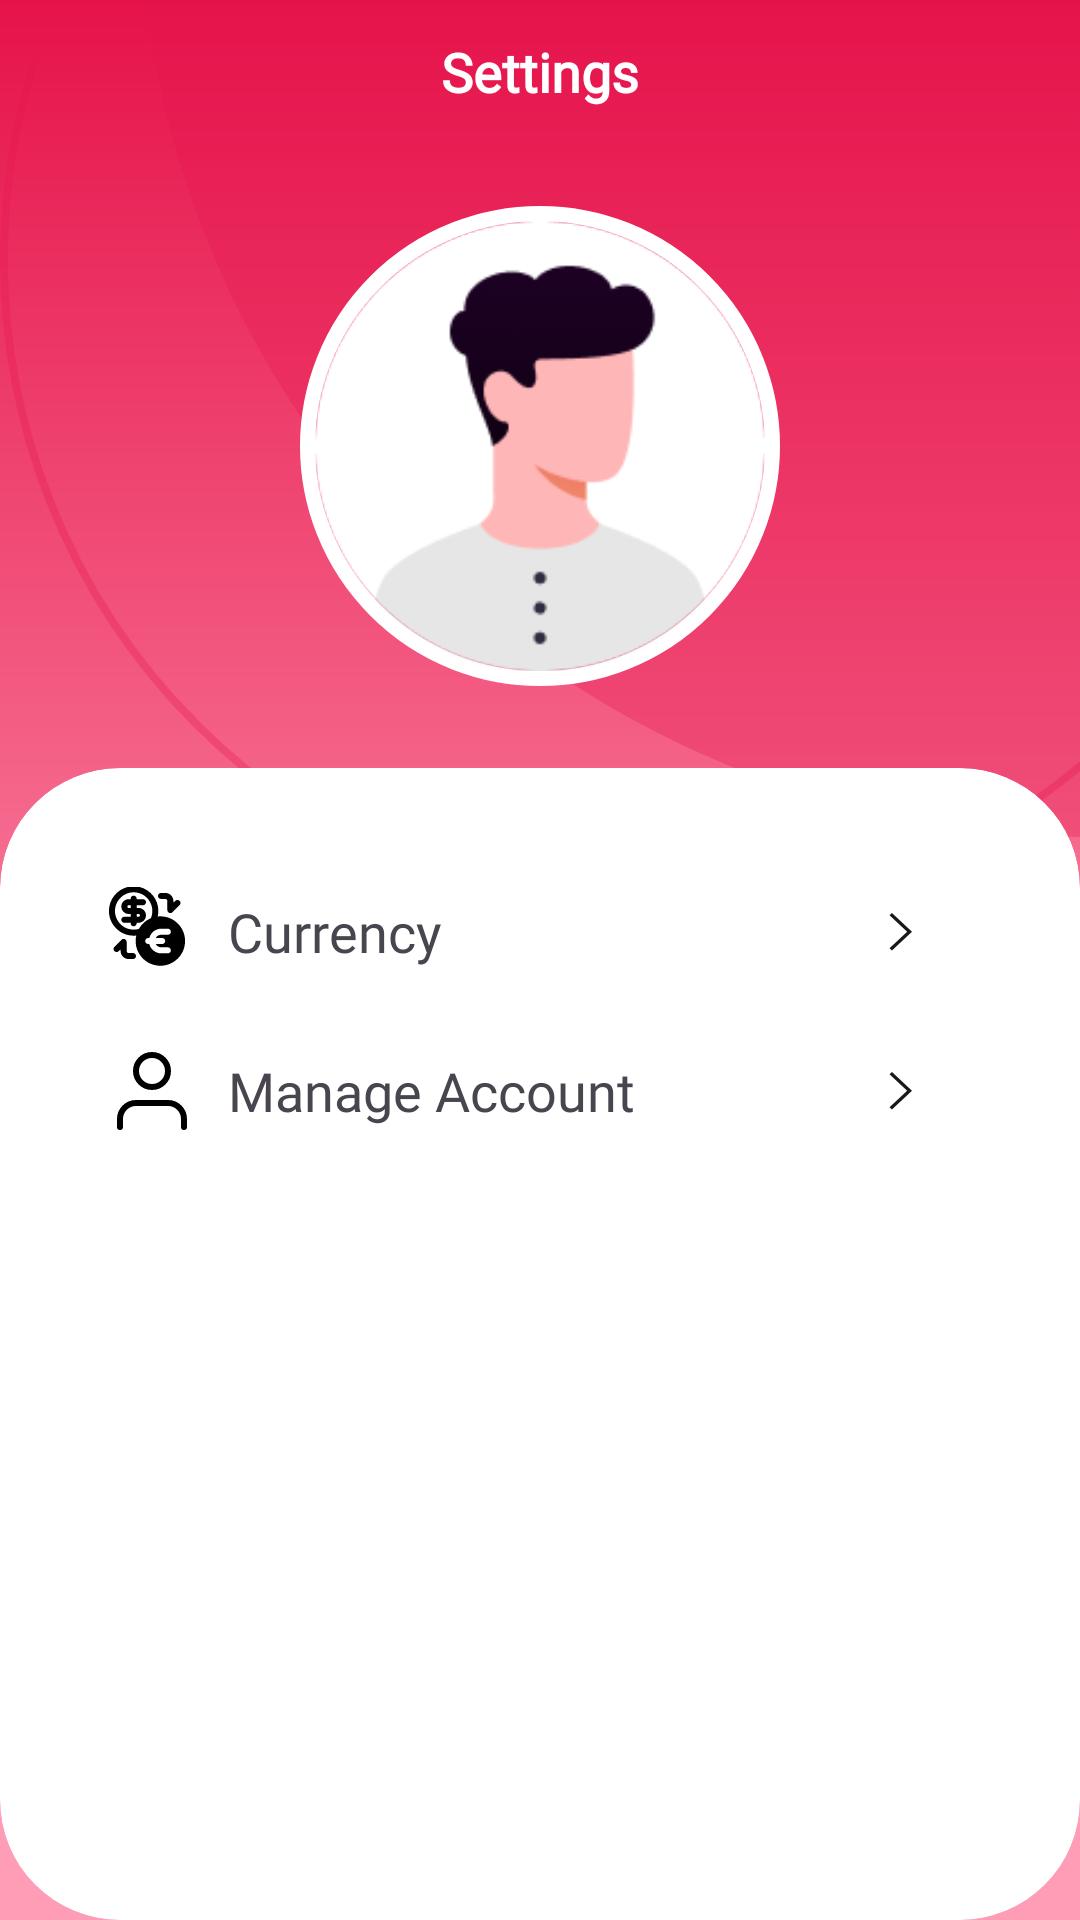

Locate icon controls on the screen. Image size 1080w x 1920h, boxes as (x1, y1, x2, y2).
arrow: (889, 913, 912, 951), (889, 1072, 912, 1110)
